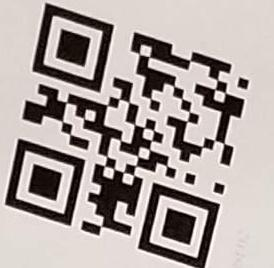qrcode: (5, 3, 251, 268)
